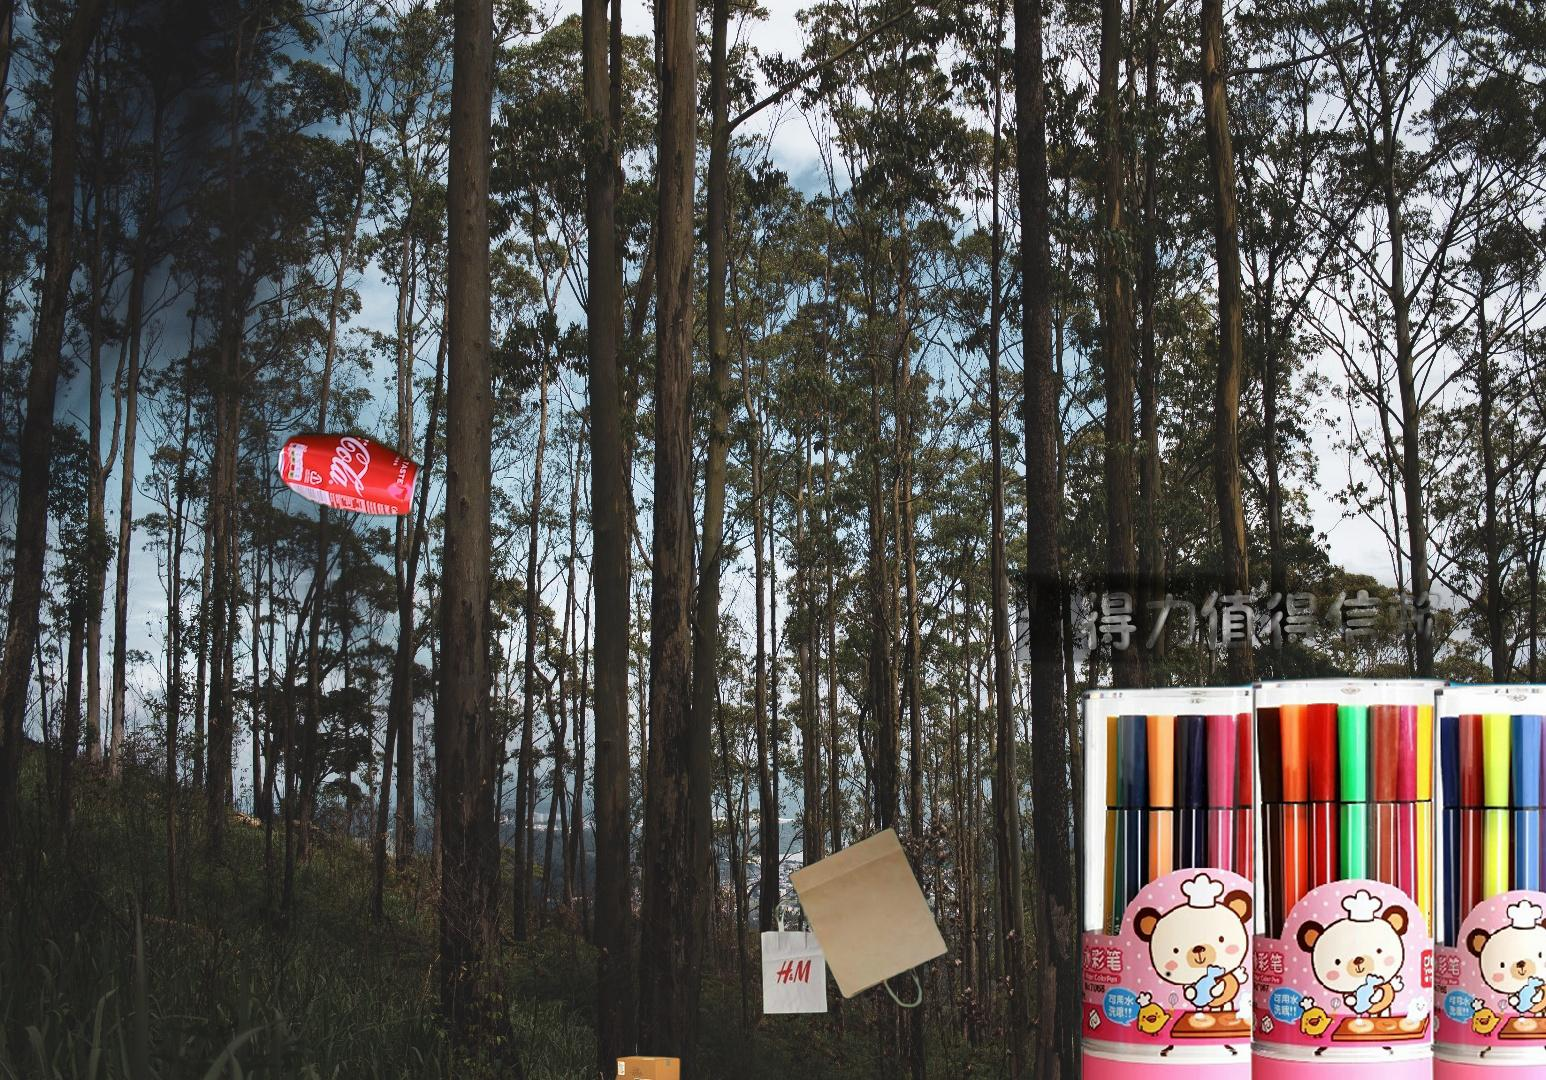glass: (1172, 733, 1473, 847)
metal-cans: (274, 427, 634, 948)
paper-bag: (757, 825, 952, 1017)
penholder: (1016, 542, 1546, 1080)
trashbox-cardboard: (546, 1053, 722, 1080)
